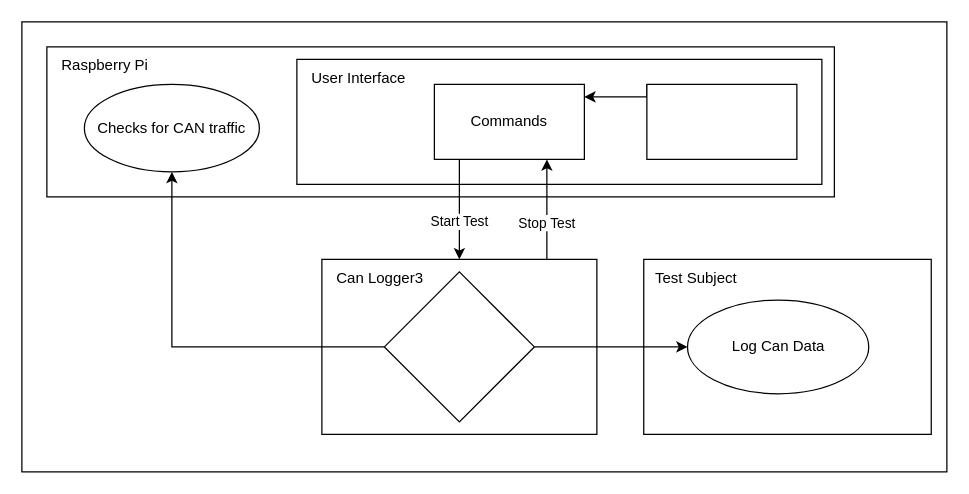
Some shapes in this 969 by 494 pixel diagram are drawn without their labels. The centre of each missing label's shape, as x and y in pixels:
Flood Can0-2: the point at 458,346
Self Tests: the point at 721,121
